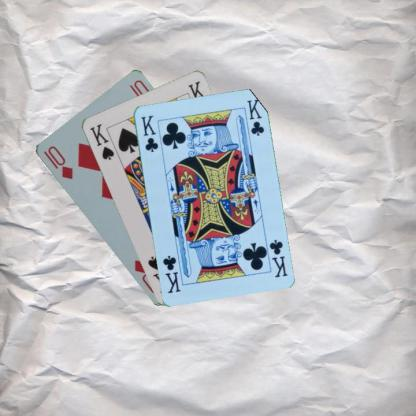10d: (41, 143, 75, 181)
Kc: (138, 112, 160, 153), (266, 237, 288, 278)
Ks: (87, 121, 115, 162)
